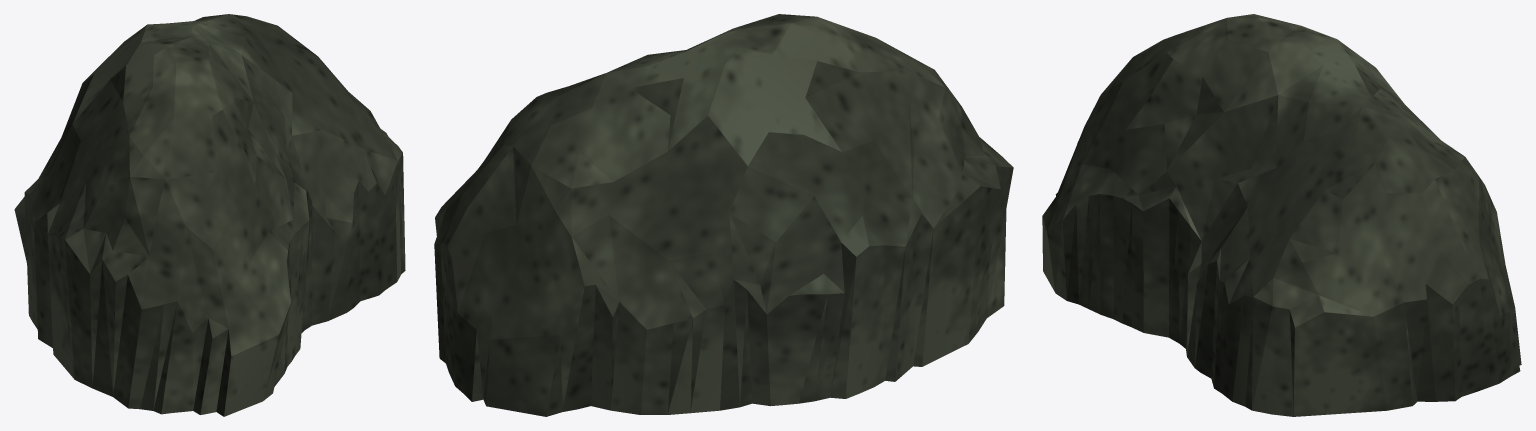
The model's file is CRERock06.glb.
3 views of the same model, side by side, from view 1: azimuth 30°, elevation 25°; view 2: azimuth 150°, elevation 25°; view 3: azimuth 270°, elevation 25° (orthographic). The views are drawn at different scales.
Parts seen in each view (by area): view 1: CRERock06_rock; view 2: CRERock06_rock; view 3: CRERock06_rock.
Boxes of the visible parts, x1,y1,x2,y2 form: CRERock06_rock: [14, 14, 405, 416]; CRERock06_rock: [434, 14, 1013, 416]; CRERock06_rock: [1042, 14, 1521, 416].
Size of the model in its own units: 2.96 by 2.04 by 3.18.
Materials: 1 (1 with a texture image).
